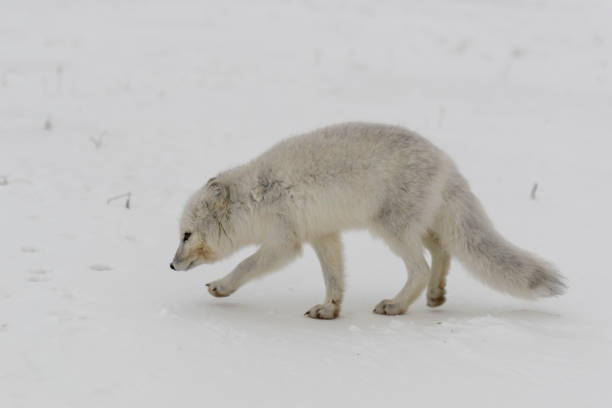arcticfox: (167, 183, 229, 283)
